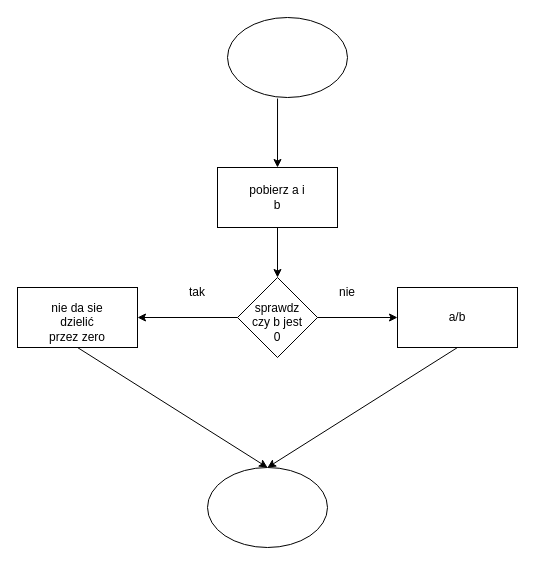
The diagram is 535 pixels wide and 565 high, and some of its shapes have lost their labels. Each missing label, with the centre of its shape:
"Start" belongs at [287,57].
"stop" belongs at [267,507].
